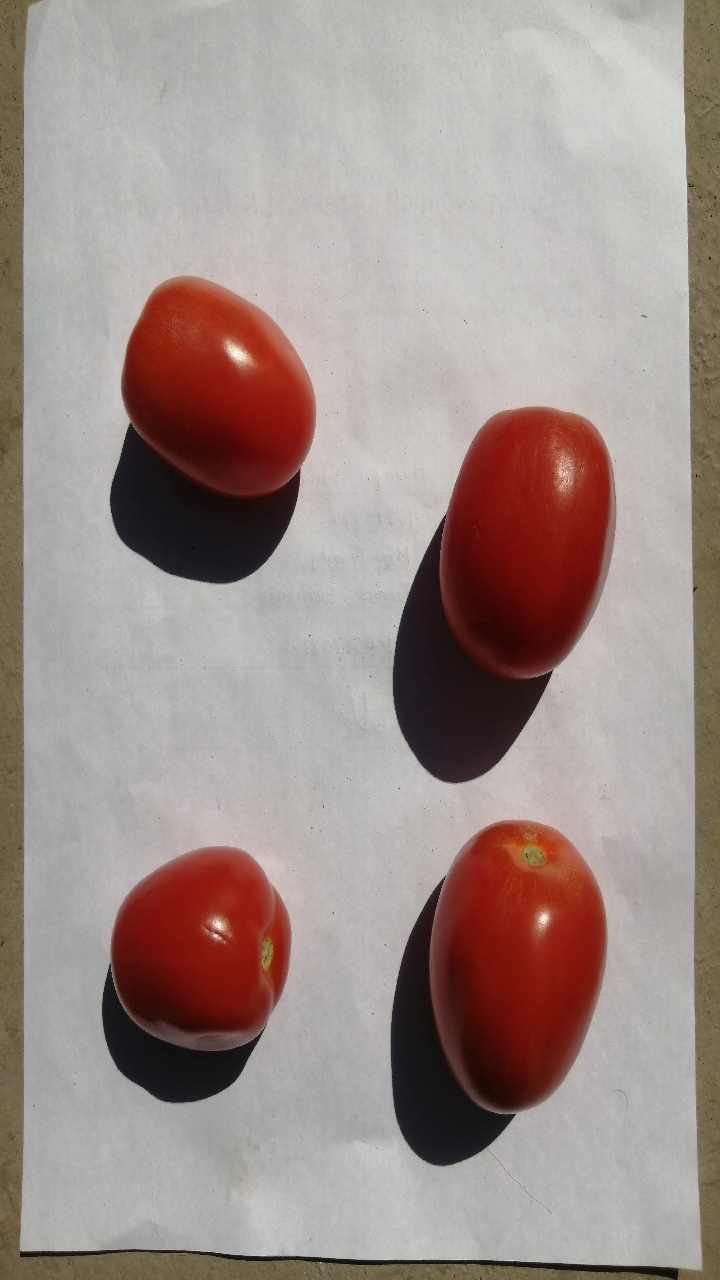tomateRojo: (420, 385, 626, 723), (104, 251, 344, 540), (86, 822, 317, 1105), (421, 808, 618, 1119)
